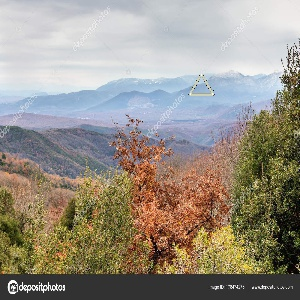triangle: (186, 71, 216, 98)
